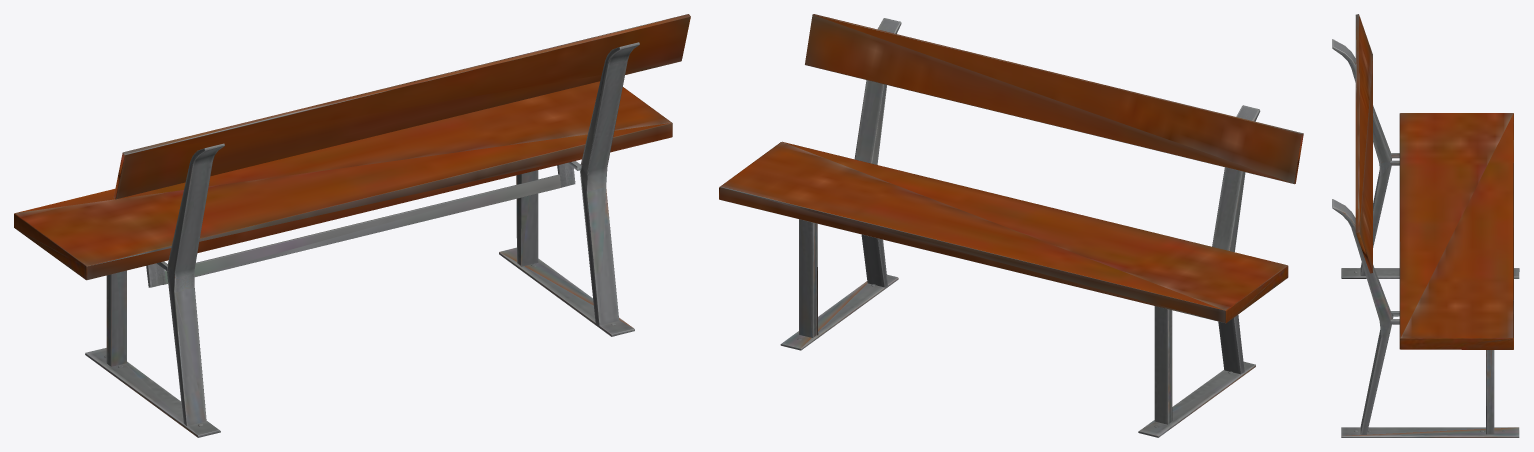
File: mall-mall-bench.glb
3 views of the same model, side by side, from view 1: azimuth 30°, elevation 25°; view 2: azimuth 150°, elevation 25°; view 3: azimuth 270°, elevation 25° (orthographic). The views are drawn at different scales.
Visible parts, largest first — view 1: mall-bench; view 2: mall-bench; view 3: mall-bench.
Boxes of the visible parts, bbox=[...] form: mall-bench: bbox=[14, 14, 690, 437]; mall-bench: bbox=[719, 14, 1303, 437]; mall-bench: bbox=[1332, 14, 1519, 437].
Size of the model in its own units: 1.7 by 0.8123 by 0.5956.
1 material, 1 textured.
